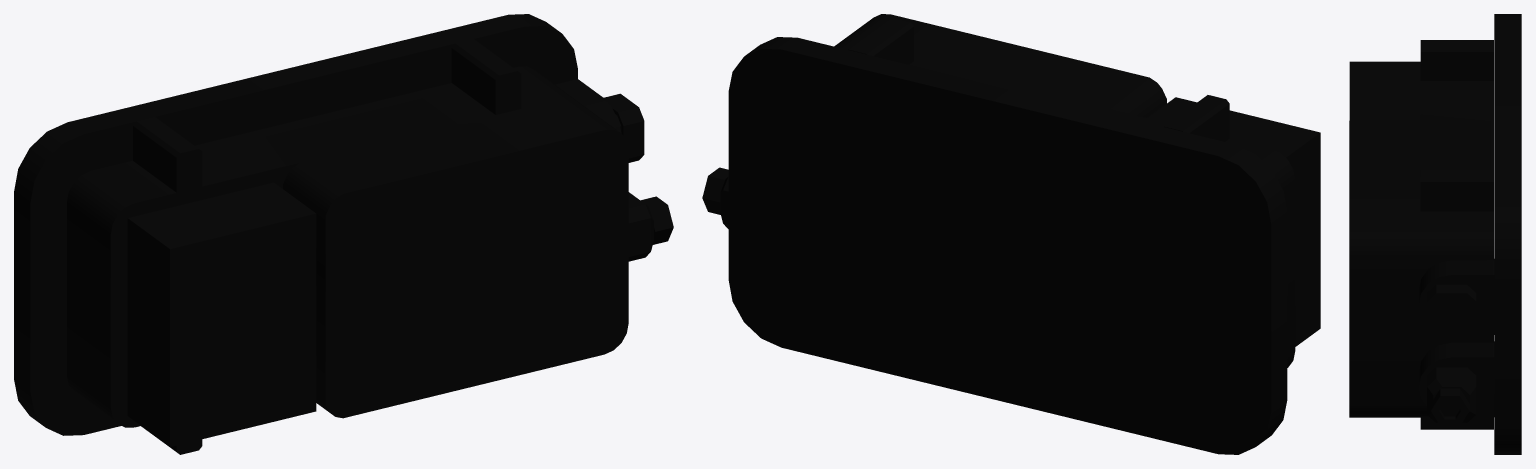
Rendered from surveyor_multibeam.visual.glb.
3 views of the same model, side by side, from view 1: azimuth 30°, elevation 25°; view 2: azimuth 150°, elevation 25°; view 3: azimuth 270°, elevation 25° (orthographic). The views are drawn at different scales.
Visible parts, largest first — view 1: surveyor_multibeam.visual.001; view 2: surveyor_multibeam.visual.001; view 3: surveyor_multibeam.visual.001.
Boxes of the visible parts, bbox=[...] form: surveyor_multibeam.visual.001: bbox=[14, 14, 673, 454]; surveyor_multibeam.visual.001: bbox=[702, 14, 1320, 454]; surveyor_multibeam.visual.001: bbox=[1349, 14, 1521, 454].
Bounding box in the file's own units: 0.191 × 0.0909 × 0.0564.
1 material, 1 textured.
